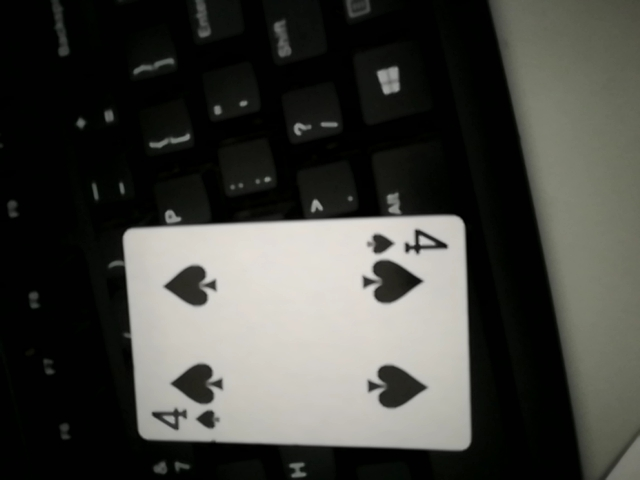ht 4: (126, 208, 471, 453)
